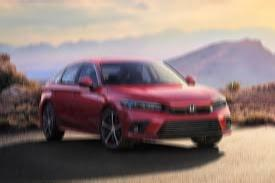Car hood: (103, 82, 226, 109)
Driver-s door - -F-R-: (74, 58, 105, 129)
Fender - -F-R-: (95, 82, 122, 136)
Fender - -R-R-: (40, 84, 56, 131)
Front bumper: (114, 110, 235, 147)
Headlight - -L-: (209, 95, 229, 115)
Headlight - -R-: (118, 96, 166, 112)
Passenger-s door - -R-R-: (53, 57, 78, 124)
Rear bumper: (38, 108, 45, 128)
Side bumper - -R-: (53, 119, 108, 137)
Side mirror - -L-: (179, 70, 199, 87)
Side mirror - -R-: (75, 73, 95, 93)
